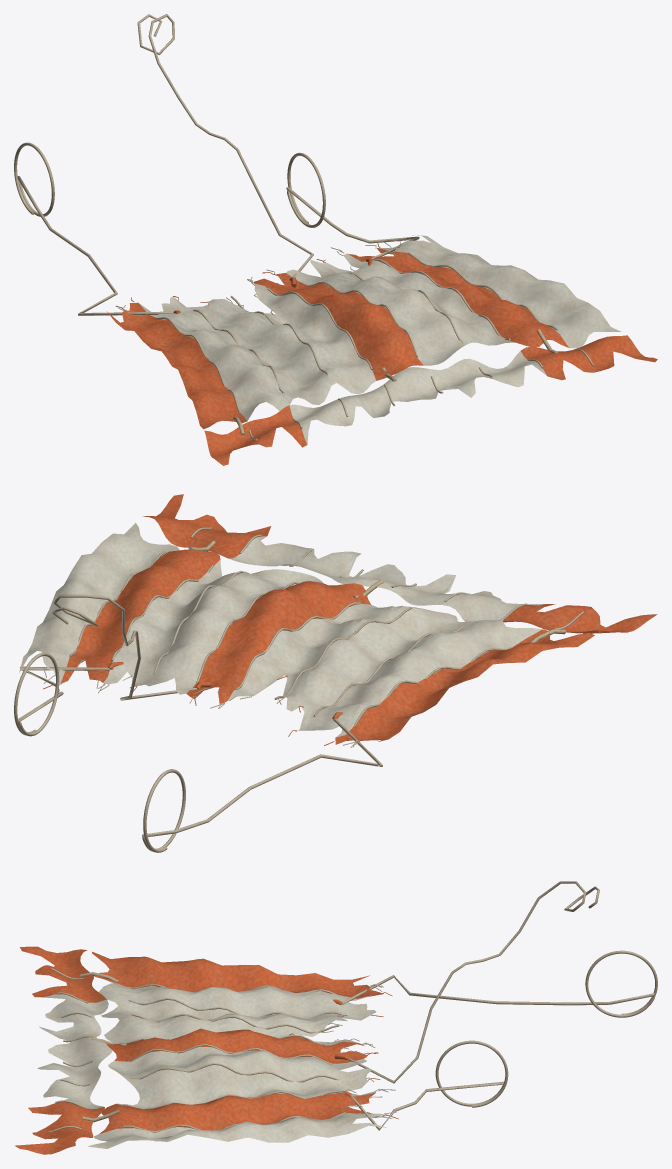
File: gar_y_canopy_snag.glb
3 views of the same model, one above another, from view 1: azimuth 30°, elevation 25°; view 2: azimuth 150°, elevation 25°; view 3: azimuth 270°, elevation 25° (orthographic). The views are drawn at different scales.
Parts seen in each view (by area): view 1: Nylon_gore_white_painted.005, Nylon_gore_white_painted.001, Nylon_gore_orange.001, Nylon_gore_orange, Nylon_gore_white_painted.003, Nylon_gore_white_painted, Nylon_gore_white_painted.002, Nylon_gore_orange.002, Nylon_gore_white_painted.004, Braided_suspension_line_warm_shell, Braided_suspension_line_warm_shell.002, Separated_canopy_band_white_painted.002 (+9 smaller); view 2: Nylon_gore_white_painted.005, Nylon_gore_orange.001, Nylon_gore_white_painted.001, Nylon_gore_white_painted, Nylon_gore_white_painted.003, Nylon_gore_orange.002, Nylon_gore_orange, Nylon_gore_white_painted.002, Nylon_gore_white_painted.004, Braided_suspension_line_warm_shell, Separated_canopy_band_white_painted, Separated_canopy_band_orange.003 (+9 smaller); view 3: Nylon_gore_orange.002, Nylon_gore_orange, Nylon_gore_white_painted.004, Nylon_gore_white_painted, Nylon_gore_white_painted.003, Nylon_gore_white_painted.005, Nylon_gore_orange.001, Nylon_gore_white_painted.002, Nylon_gore_white_painted.001, Braided_suspension_line_warm_shell, Braided_suspension_line_warm_shell.001, Braided_suspension_line_warm_shell.002 (+12 smaller).
Part boxes in pixels (bbox=[...]): Nylon_gore_white_painted.005: bbox=[378, 235, 621, 348]; Nylon_gore_white_painted.001: bbox=[174, 297, 331, 404]; Nylon_gore_orange.001: bbox=[253, 273, 423, 380]; Nylon_gore_orange: bbox=[106, 302, 246, 429]; Nylon_gore_white_painted.003: bbox=[286, 260, 465, 365]; Nylon_gore_white_painted: bbox=[139, 296, 288, 421]; Nylon_gore_white_painted.002: bbox=[254, 283, 376, 394]; Nylon_gore_orange.002: bbox=[348, 248, 568, 347]; Nylon_gore_white_painted.004: bbox=[319, 254, 514, 345]; Braided_suspension_line_warm_shell: bbox=[14, 142, 173, 315]; Braided_suspension_line_warm_shell.002: bbox=[137, 14, 313, 277]; Separated_canopy_band_white_painted.002: bbox=[383, 367, 437, 401]; Nylon_gore_white_painted.005: bbox=[19, 523, 179, 683]; Nylon_gore_orange.001: bbox=[186, 581, 370, 704]; Nylon_gore_white_painted.001: bbox=[285, 608, 475, 730]; Nylon_gore_white_painted: bbox=[299, 619, 542, 737]; Nylon_gore_white_painted.003: bbox=[146, 569, 323, 694]; Nylon_gore_orange.002: bbox=[61, 549, 220, 683]; Nylon_gore_orange: bbox=[335, 629, 594, 744]; Nylon_gore_white_painted.002: bbox=[227, 604, 421, 700]; Nylon_gore_white_painted.004: bbox=[103, 559, 264, 685]; Braided_suspension_line_warm_shell: bbox=[142, 718, 382, 852]; Separated_canopy_band_white_painted: bbox=[442, 591, 544, 621]; Separated_canopy_band_orange.003: bbox=[143, 494, 218, 547]; Nylon_gore_orange.002: bbox=[99, 1093, 375, 1133]; Nylon_gore_orange: bbox=[92, 951, 383, 998]; Nylon_gore_white_painted.004: bbox=[116, 1065, 376, 1109]; Nylon_gore_white_painted: bbox=[97, 977, 375, 1018]; Nylon_gore_white_painted.003: bbox=[108, 1046, 371, 1081]; Nylon_gore_white_painted.005: bbox=[88, 1113, 386, 1148]; Nylon_gore_orange.001: bbox=[106, 1028, 367, 1063]; Nylon_gore_white_painted.002: bbox=[104, 1015, 357, 1044]; Nylon_gore_white_painted.001: bbox=[101, 999, 375, 1031]; Braided_suspension_line_warm_shell: bbox=[342, 950, 657, 1017]; Braided_suspension_line_warm_shell.001: bbox=[350, 1040, 508, 1130]; Braided_suspension_line_warm_shell.002: bbox=[349, 881, 599, 1083].
Bounding box in the file's own units: 2.37 × 0.9827 × 3.19.
Materials: 4 (4 with a texture image).
